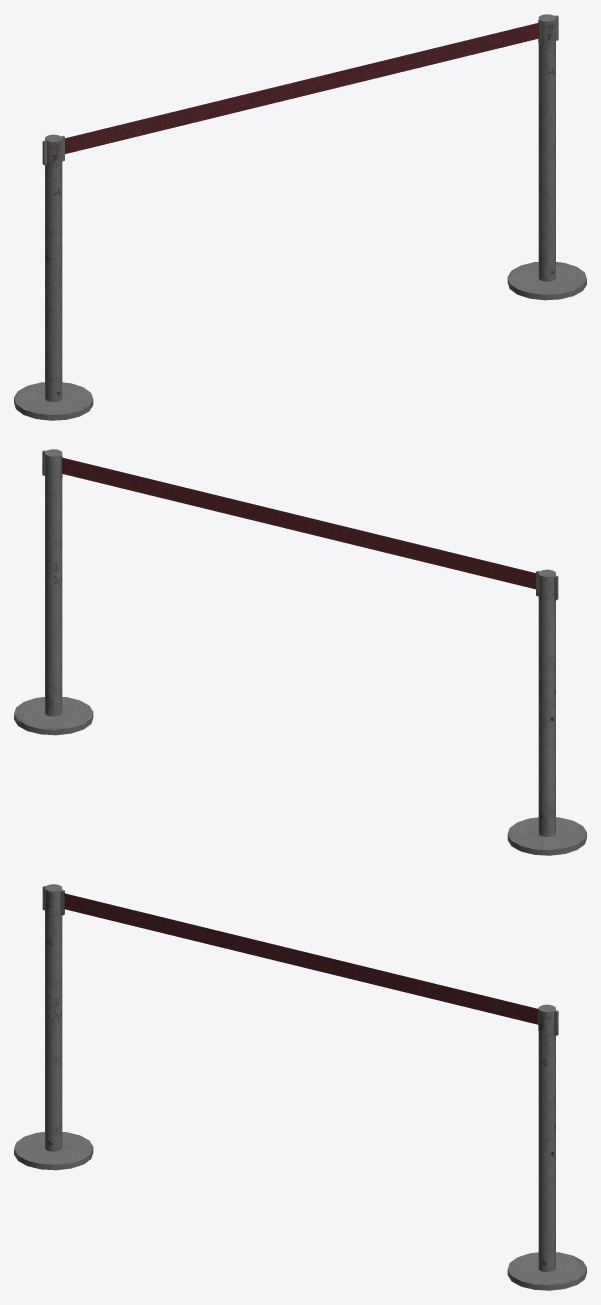
The model's file is Pembatas Pita Merah Museum.fbx.
3 renders of one model, top to bottom at view 1: azimuth 30°, elevation 25°; view 2: azimuth 150°, elevation 25°; view 3: azimuth 330°, elevation 25°, orthographic.
Parts seen in each view (by area): view 1: Pita Merah, Stand 1, Stand 2; view 2: Pita Merah, Stand 1, Stand 2; view 3: Pita Merah, Stand 1, Stand 2.
Part boxes in pixels (x1,y1,x2,y2): Pita Merah: [65, 22, 539, 153]; Stand 1: [14, 134, 93, 420]; Stand 2: [507, 14, 586, 300]; Pita Merah: [61, 457, 535, 589]; Stand 1: [507, 569, 586, 855]; Stand 2: [14, 449, 93, 735]; Pita Merah: [64, 893, 538, 1024]; Stand 1: [14, 884, 93, 1170]; Stand 2: [507, 1004, 586, 1290].
Size of the model in its own units: 205 by 24.68 by 92.63.
3 materials, 3 textured.
